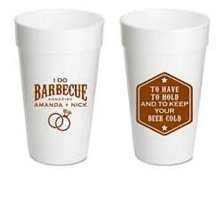paper_cup: (7, 4, 107, 170), (115, 2, 213, 169)
